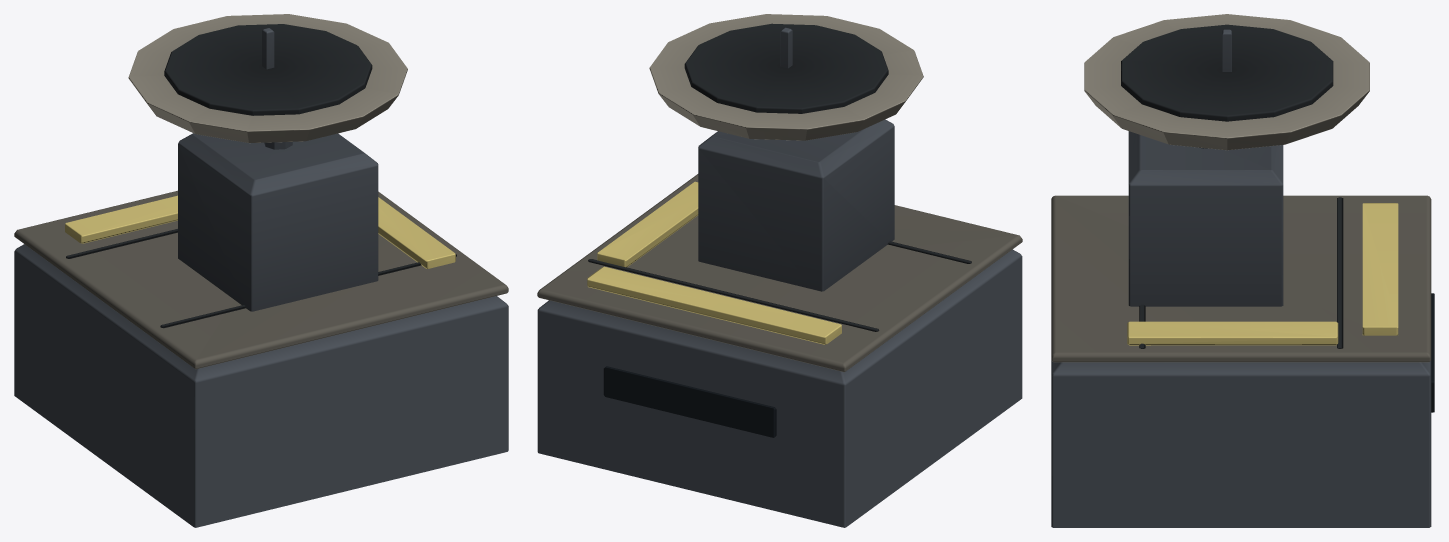
Rendered from radar_center.glb.
The picture shows the model from 3 angles, left to right: view 1: azimuth 30°, elevation 25°; view 2: azimuth 150°, elevation 25°; view 3: azimuth 270°, elevation 25°; orthographic projection. The views are drawn at different scales.
Visible parts, largest first — view 1: Body; view 2: Body; view 3: Body.
Part boxes in pixels (x1=…): Body: x1=14, y1=14, x2=508, y2=527; Body: x1=537, y1=14, x2=1022, y2=527; Body: x1=1051, y1=14, x2=1434, y2=527.
Size of the model in its own units: 5.4 by 6.55 by 5.45.
